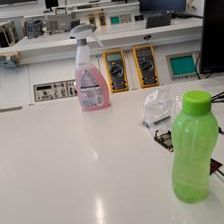bottle: (169, 91, 220, 203)
